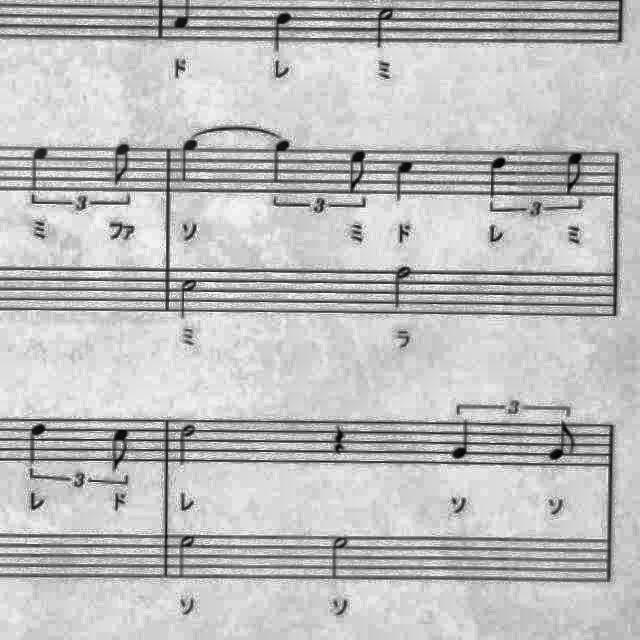Eighth-note: (542, 418, 582, 466), (343, 145, 375, 199), (106, 138, 138, 192), (104, 421, 136, 475), (558, 146, 590, 198)
Half-note: (324, 531, 356, 585), (174, 530, 202, 584), (173, 274, 203, 324), (371, 3, 401, 53), (389, 262, 417, 314), (174, 421, 202, 471)
Quarter-note: (24, 141, 56, 199), (388, 154, 420, 208), (482, 150, 514, 202), (446, 416, 478, 466), (267, 134, 297, 186), (175, 135, 205, 187), (23, 418, 52, 469), (269, 6, 299, 54)
Quarter-rest: (326, 416, 354, 460)
